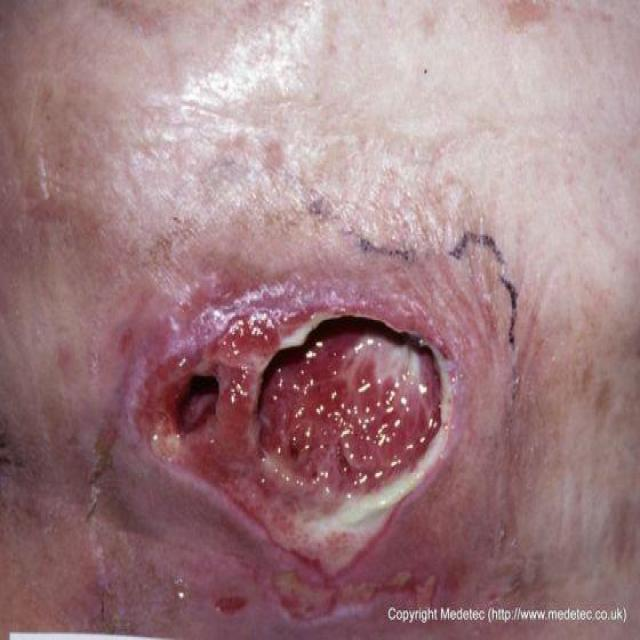stage-2: (269, 570, 436, 618)
stage-4: (136, 282, 455, 571)
